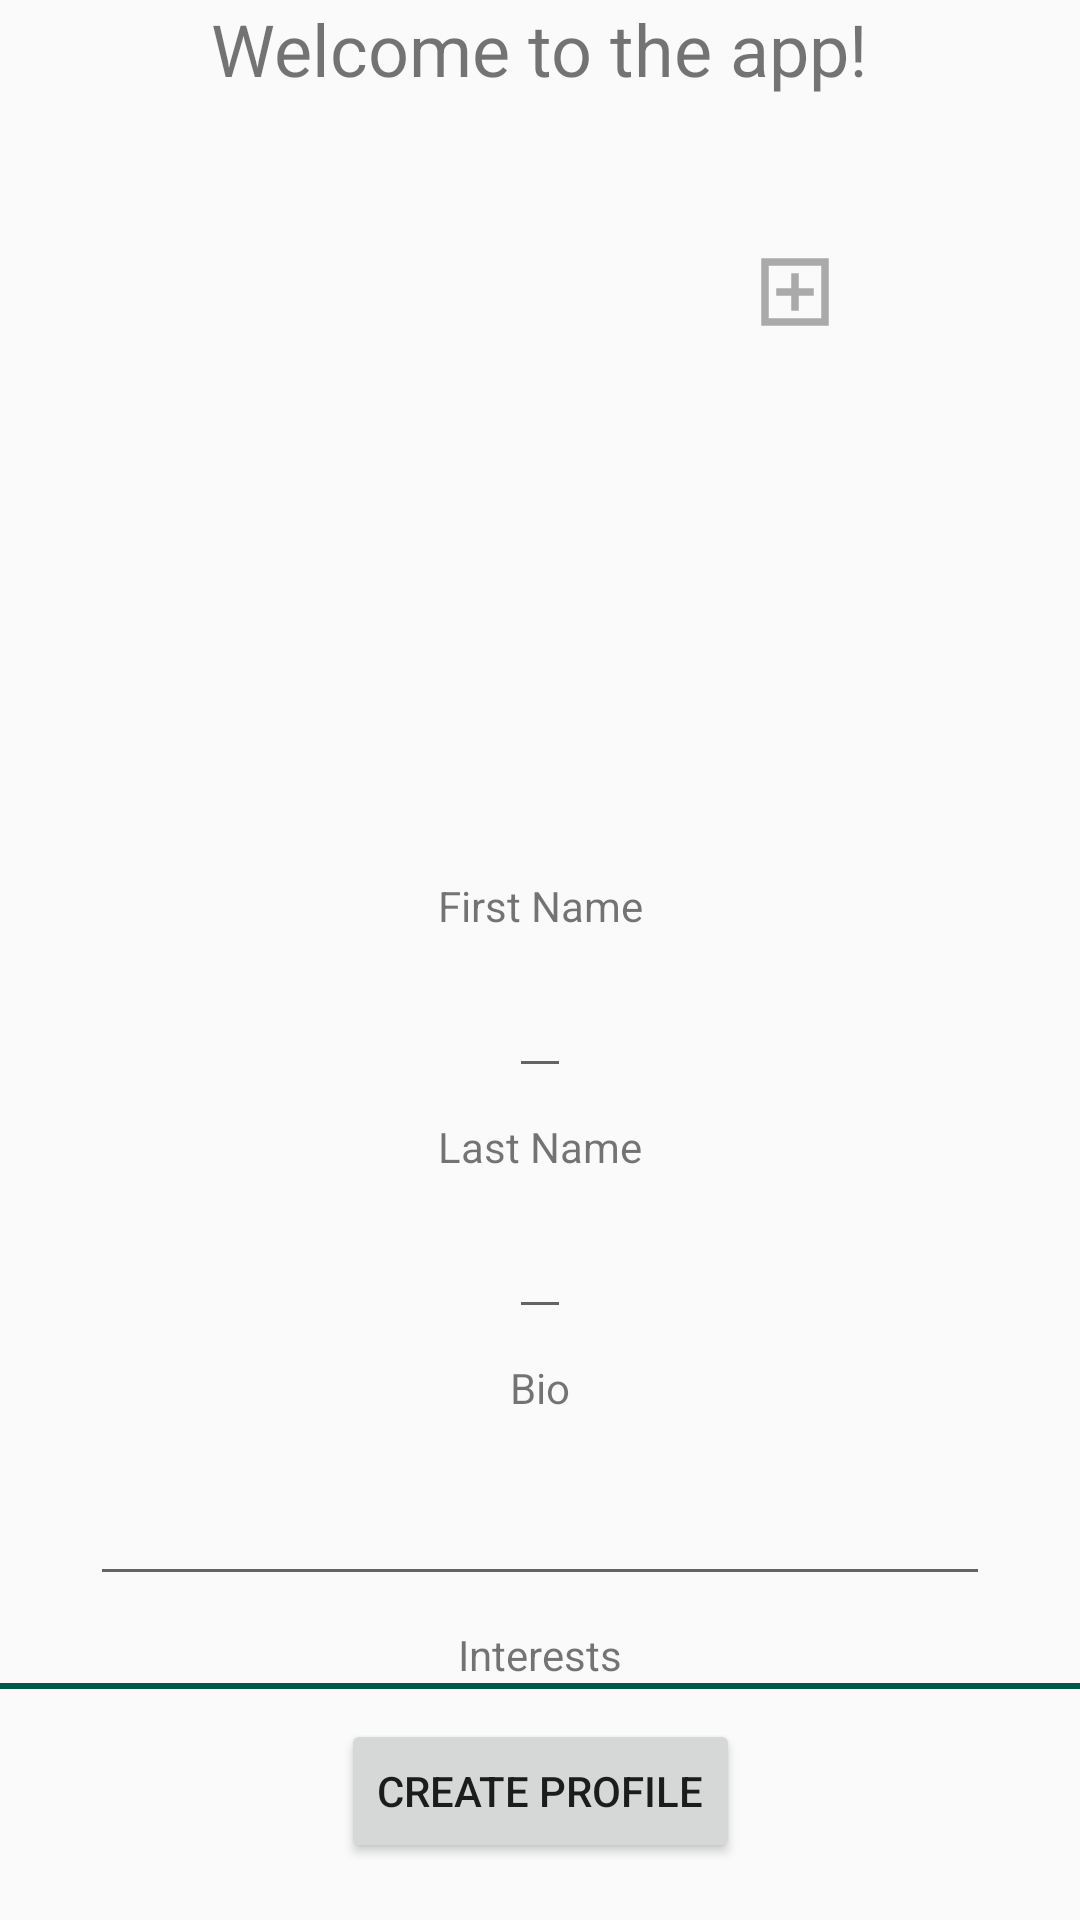

Locate icon controls on the screen. Image size 1080*1920, boxes as (x1, y1, x2, y2).
add box: (761, 258, 829, 326)
